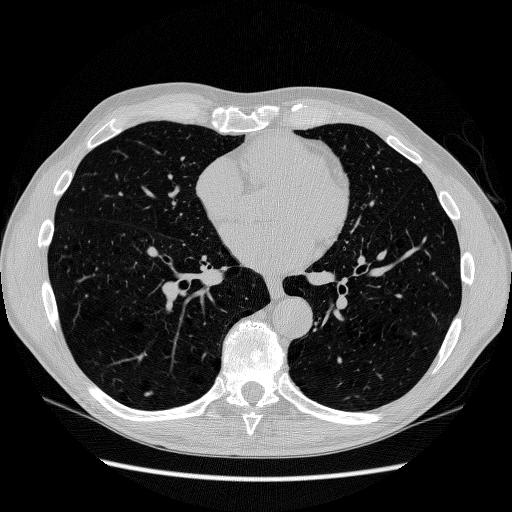nodule: (143, 388, 154, 399)
